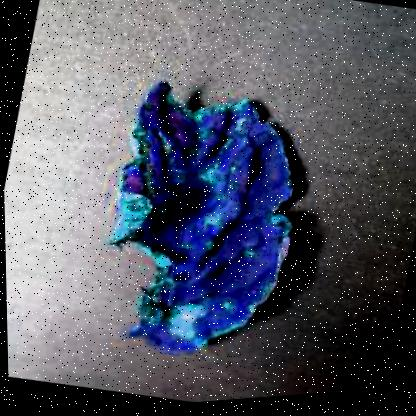BACTERIAL SPOT: (68, 64, 329, 382)
